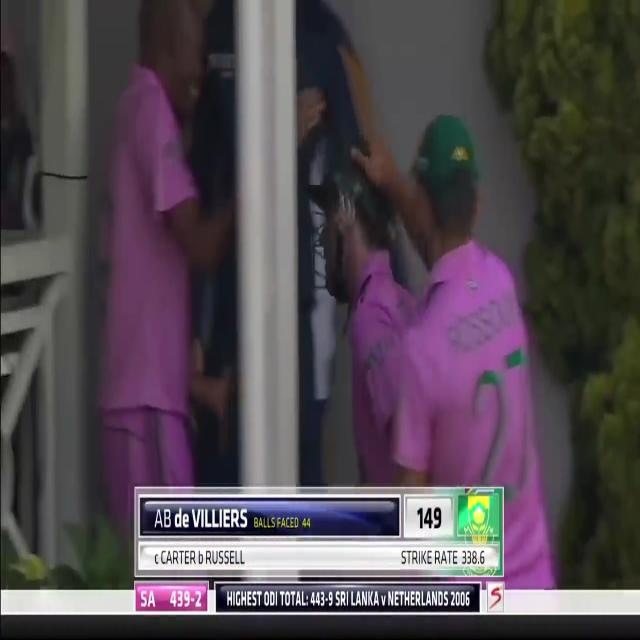Ball: (302, 102, 633, 488)
